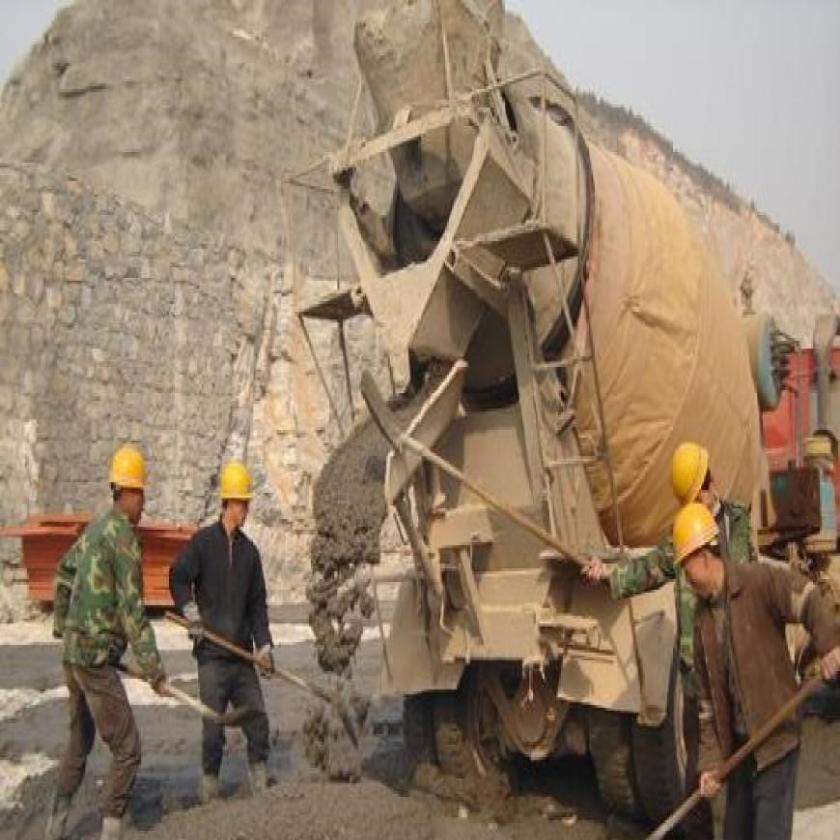Con_casco: (669, 501, 724, 604), (105, 443, 148, 529), (215, 456, 256, 545), (668, 443, 716, 514)
